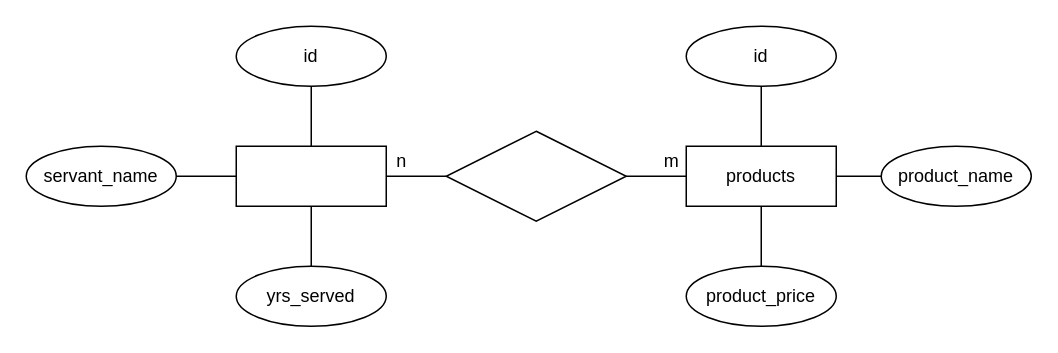
Image size: 1058x353. Some labels were removed from this diagram. Each missing label, with the centre of its shape:
buys: pixel 535 175
servants: pixel 310 175
